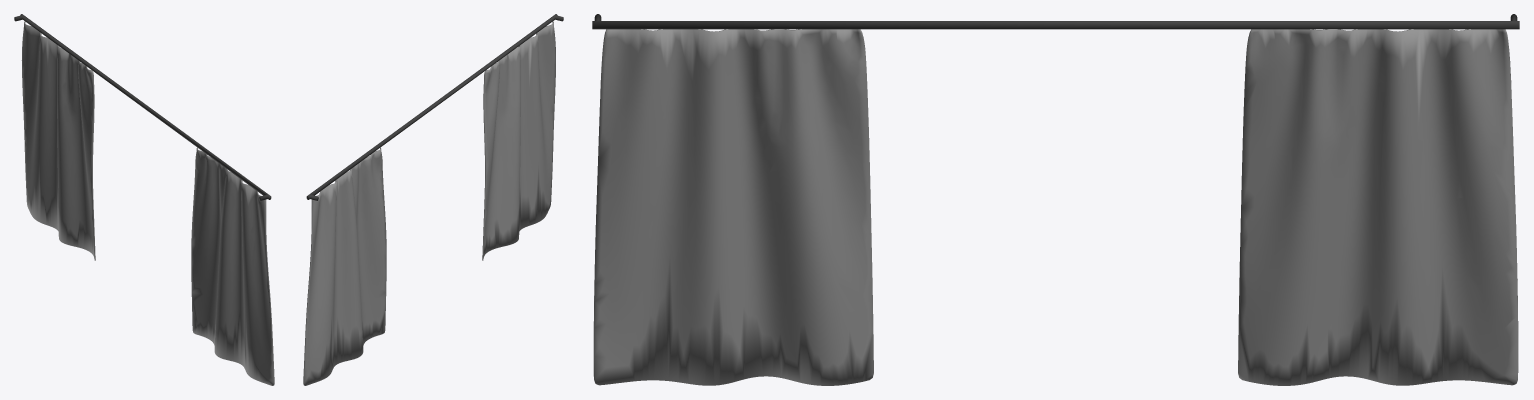
Rendered from BedroomCurtainsModel.fbx.
3 renders of one model, left to right at view 1: azimuth 30°, elevation 25°; view 2: azimuth 150°, elevation 25°; view 3: azimuth 270°, elevation 25°, orthographic. The views are drawn at different scales.
Parts seen in each view (by area): view 1: BedroomCurtainsModel; view 2: BedroomCurtainsModel; view 3: BedroomCurtainsModel.
Boxes of the visible parts, box(x1,y1,x2,y2) form: BedroomCurtainsModel: box(14, 14, 274, 385); BedroomCurtainsModel: box(303, 14, 563, 385); BedroomCurtainsModel: box(592, 14, 1519, 385).
Bounding box in the file's own units: 16.66 × 228 × 532.
